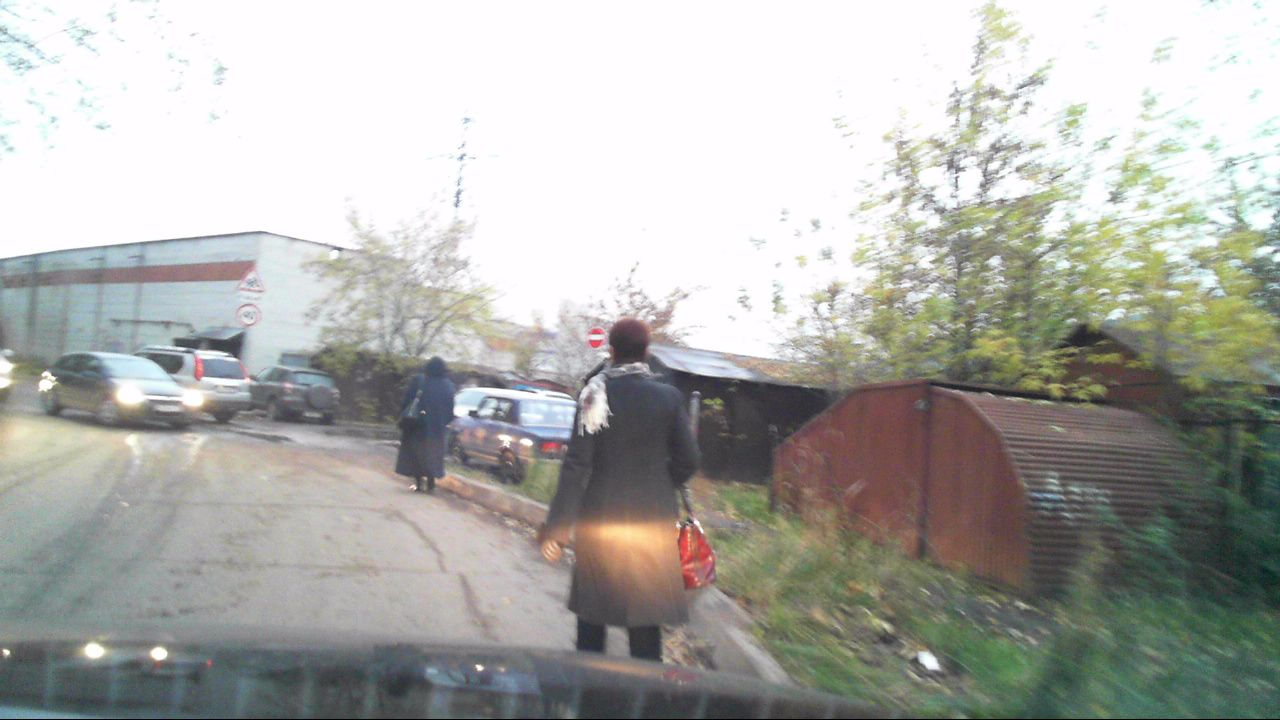speed_warning_40: (238, 305, 260, 326)
